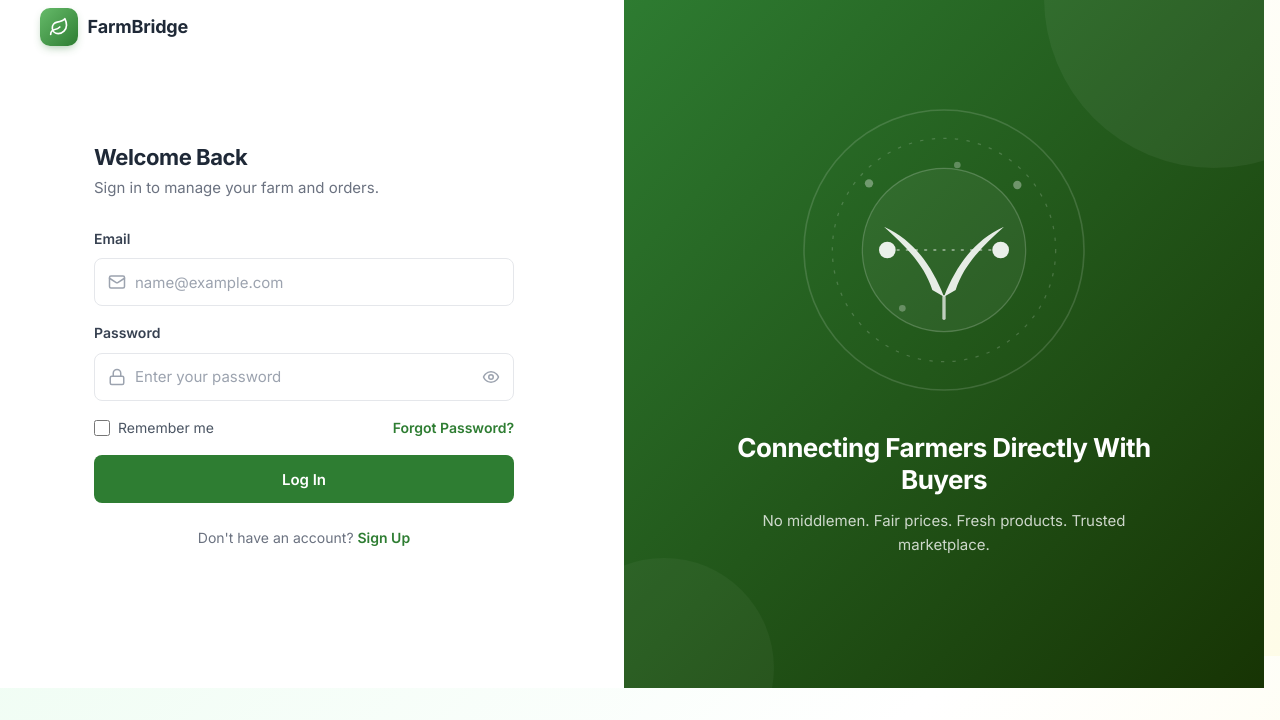
Test: LoginPage — validation › shows the server error message for wrong credentials (Test 2)
In the field labelled "Email": (304, 282) [94,258,514,306], type "a@b.com"
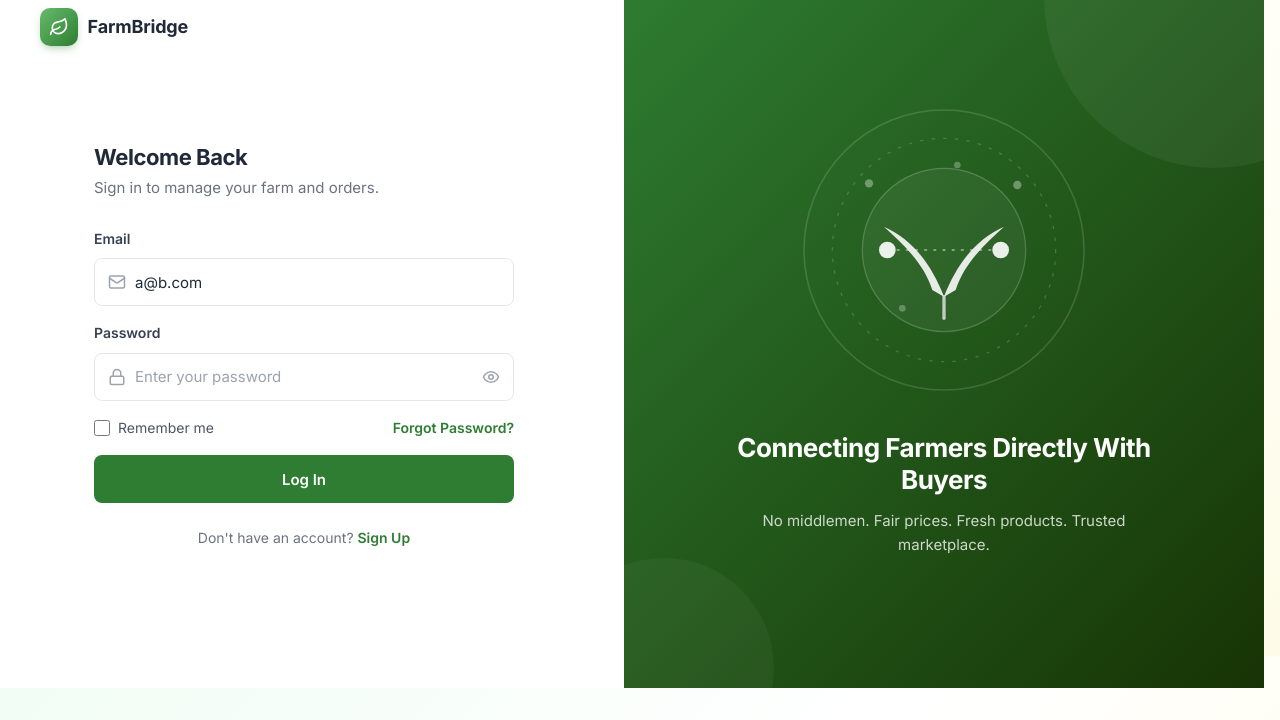
In the password field labelled "Password": (304, 377) [94,353,514,401], type "WrongPass@999"
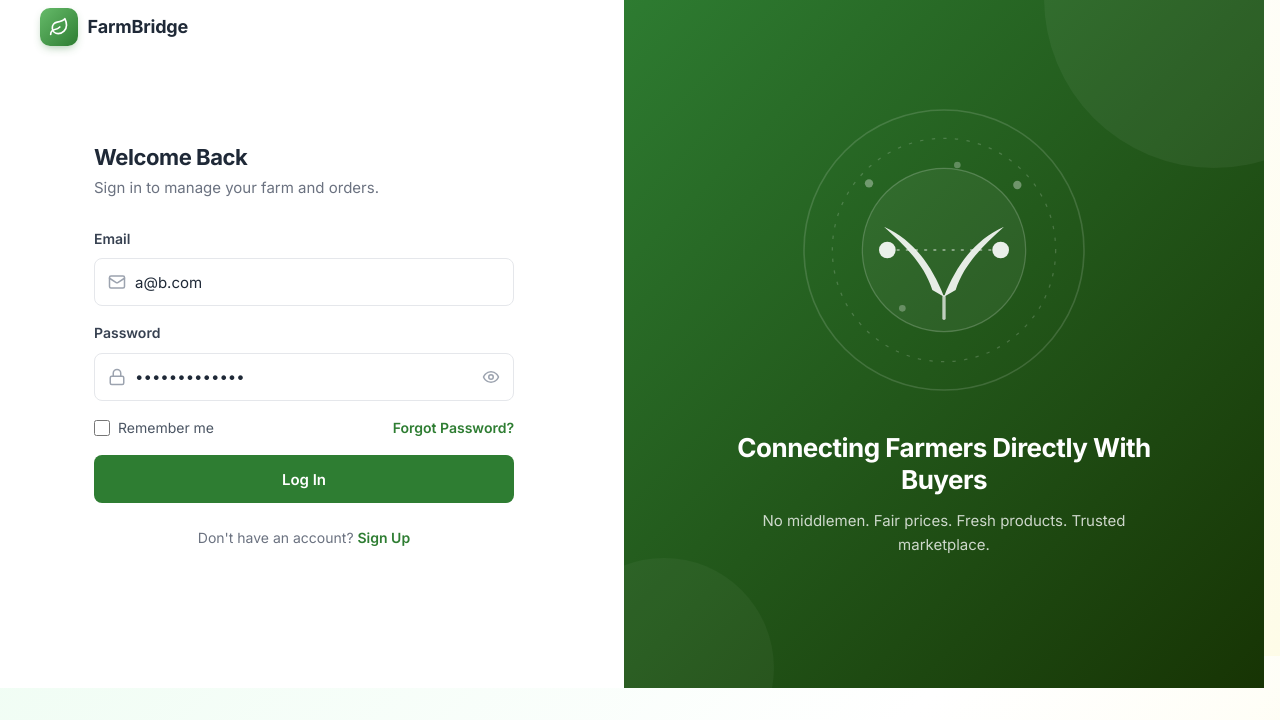
Click the button "Log In": (304, 479) [94,455,514,503]
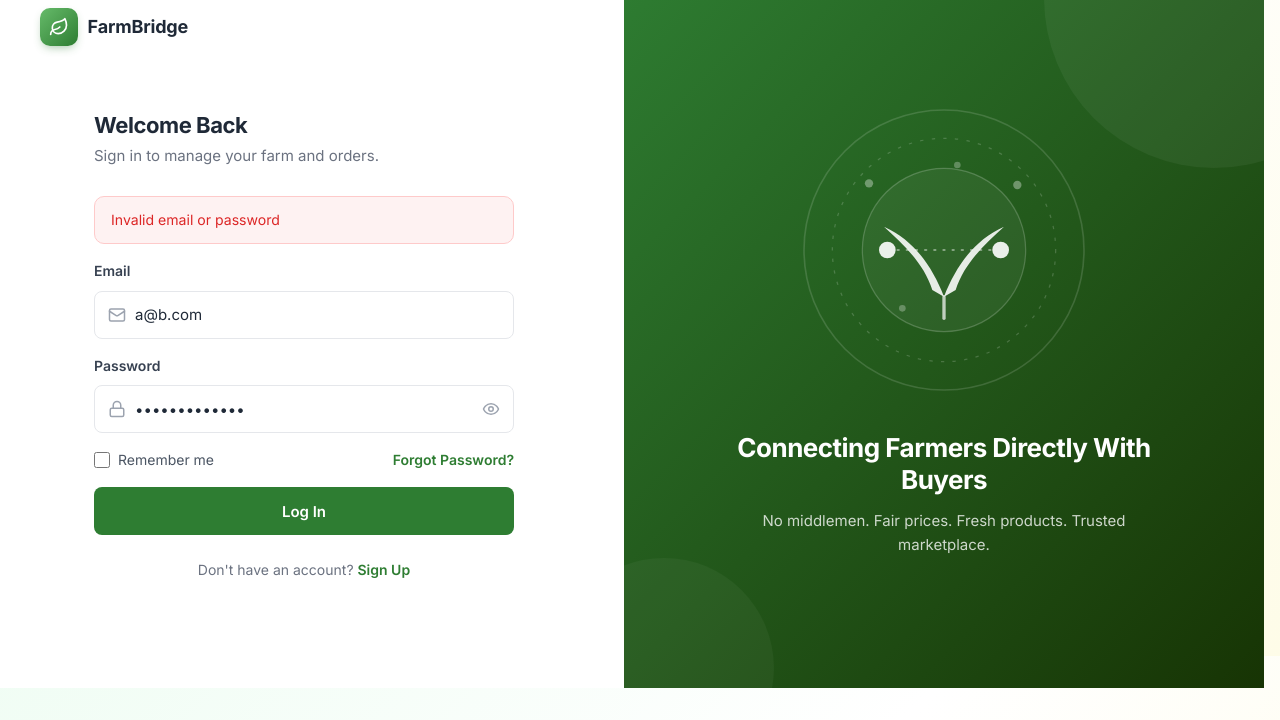
Expected: the text "Invalid email or password" is shown, [94,196,514,244]
